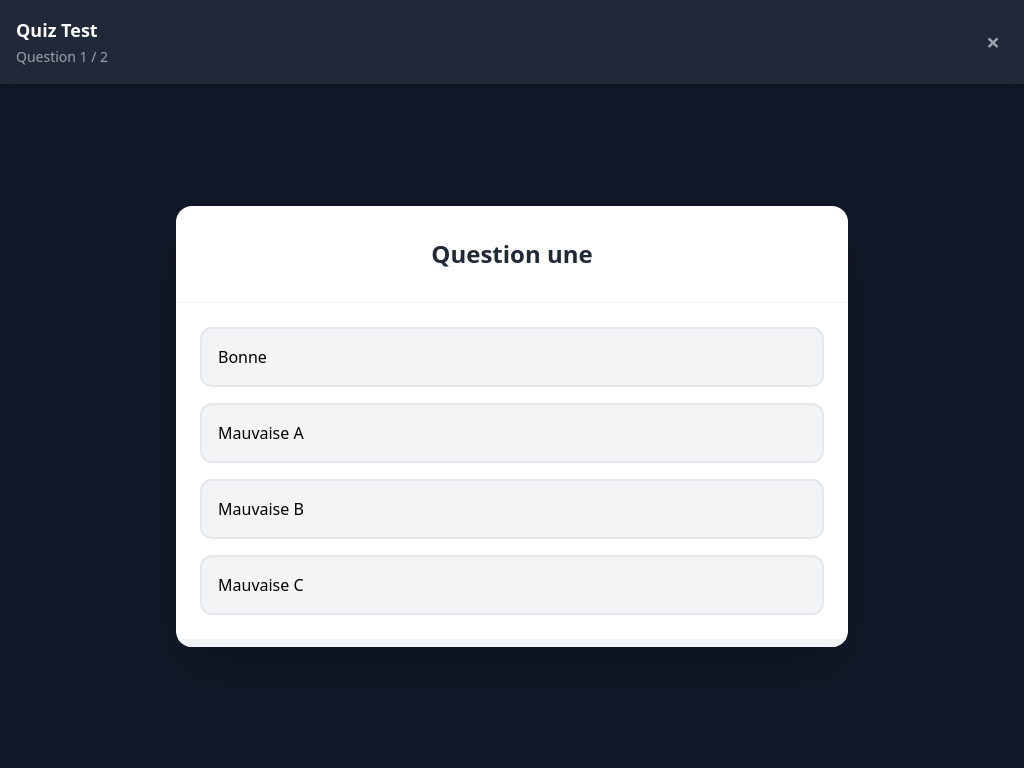
Test: QuizGame — récapitulatif affiché en fin de quiz › affiche toutes les questions dans le récapitulatif
Click the button "Bonne".
click(242, 356)  # box [200,326,824,386]
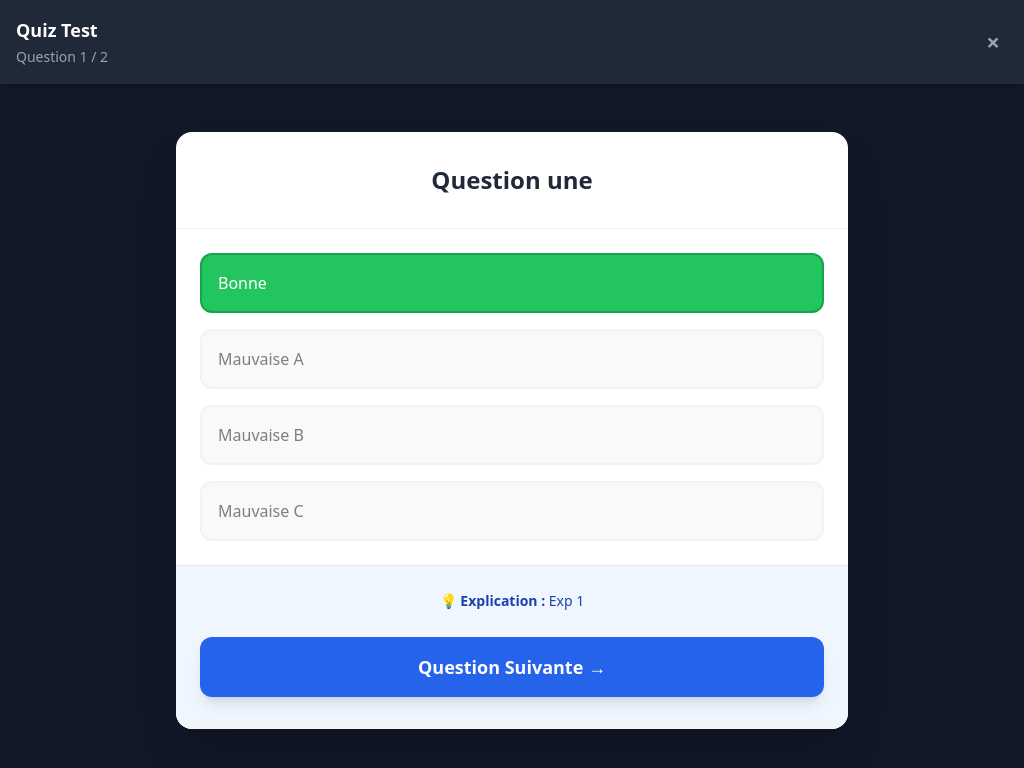
Click the button "Question Suivante →".
click(512, 667)  # box [200,637,824,697]
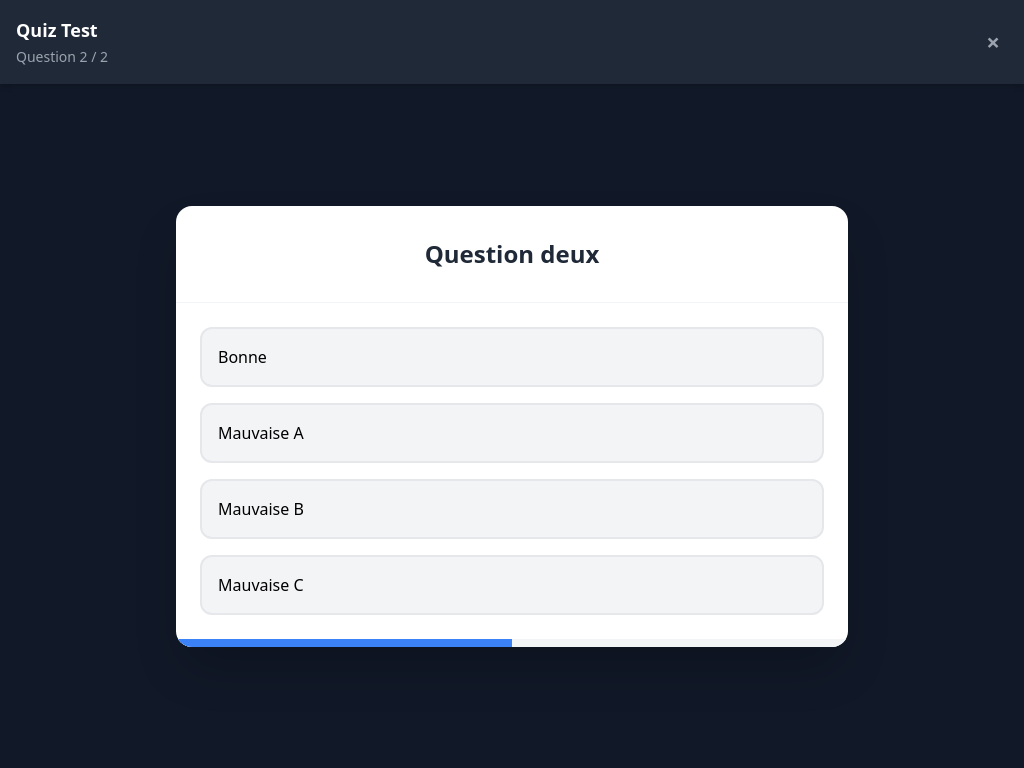
Click the button "Bonne".
click(242, 356)  # box [200,326,824,386]
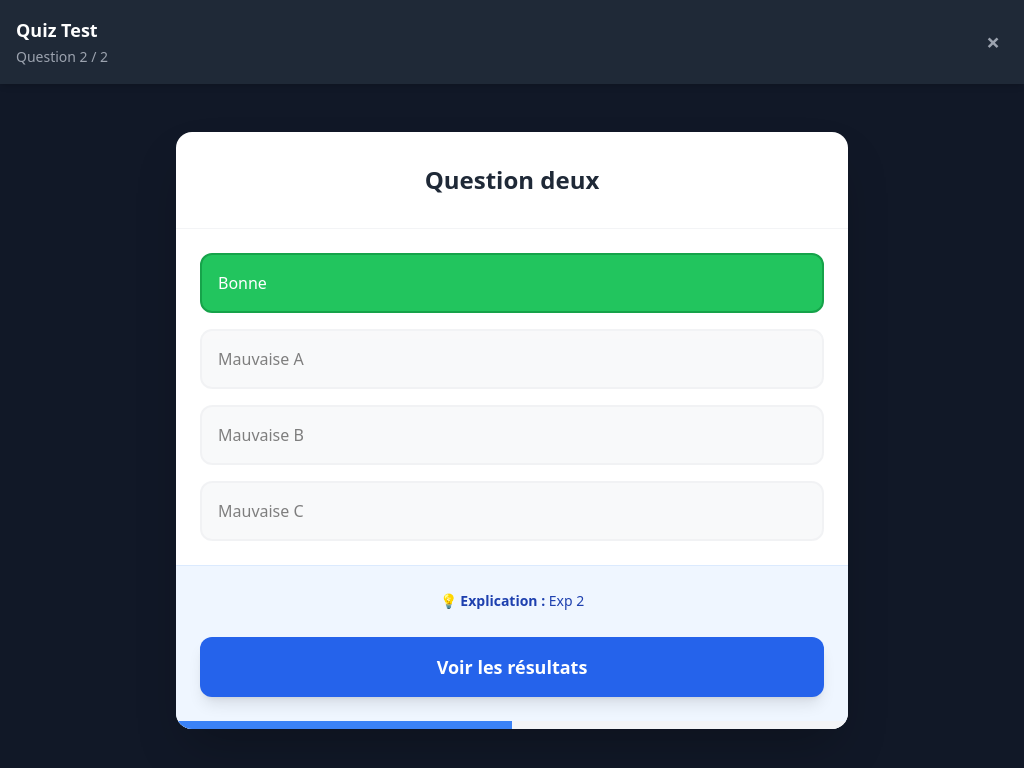
Click the button "Voir les résultats".
click(512, 667)  # box [200,637,824,697]
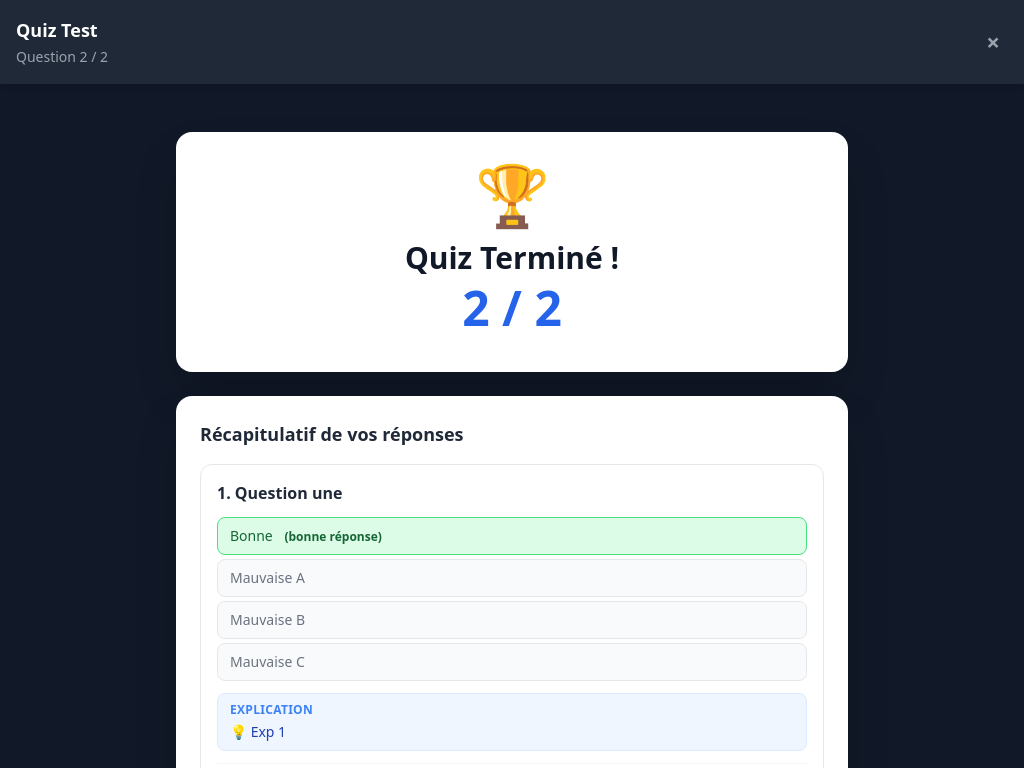
Now the text "Question une" is shown, box [217,482,342,504]
